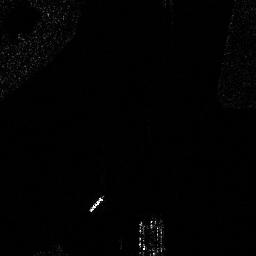ship: (88, 196, 104, 212)
